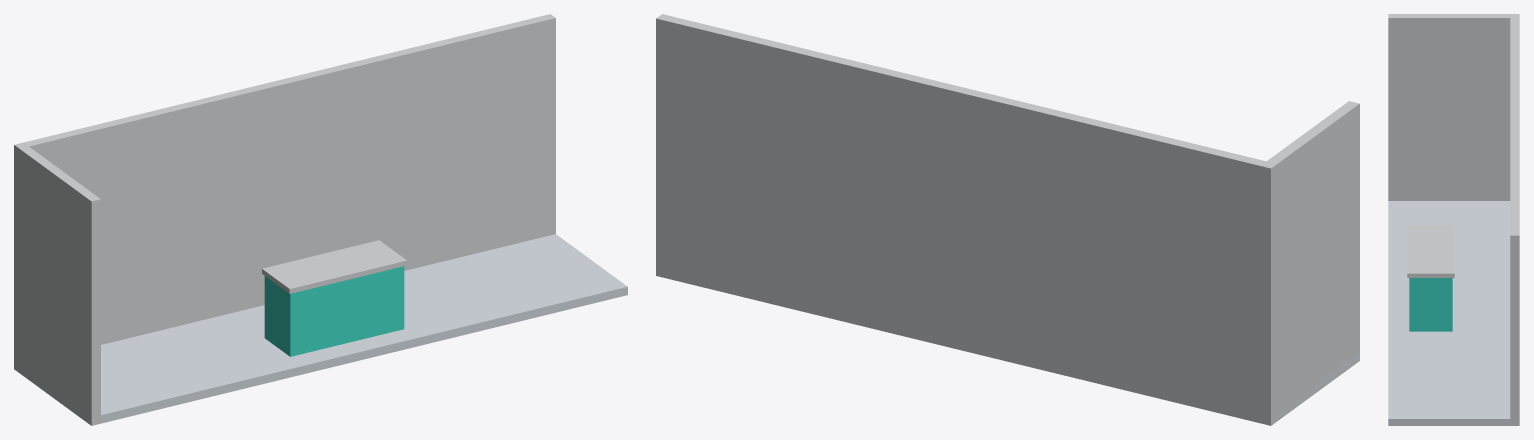
3 views of the same model, side by side, from view 1: azimuth 30°, elevation 25°; view 2: azimuth 150°, elevation 25°; view 3: azimuth 270°, elevation 25° (orthographic). The views are drawn at different scales.
Visible parts, largest first — view 1: Exhibition Booth Concept; view 2: Exhibition Booth Concept; view 3: Exhibition Booth Concept.
Boxes of the visible parts, bbox=[...] form: Exhibition Booth Concept: bbox=[14, 14, 627, 425]; Exhibition Booth Concept: bbox=[656, 14, 1359, 425]; Exhibition Booth Concept: bbox=[1388, 14, 1519, 425].
Size of the model in its own units: 8 by 3.2 by 2.
